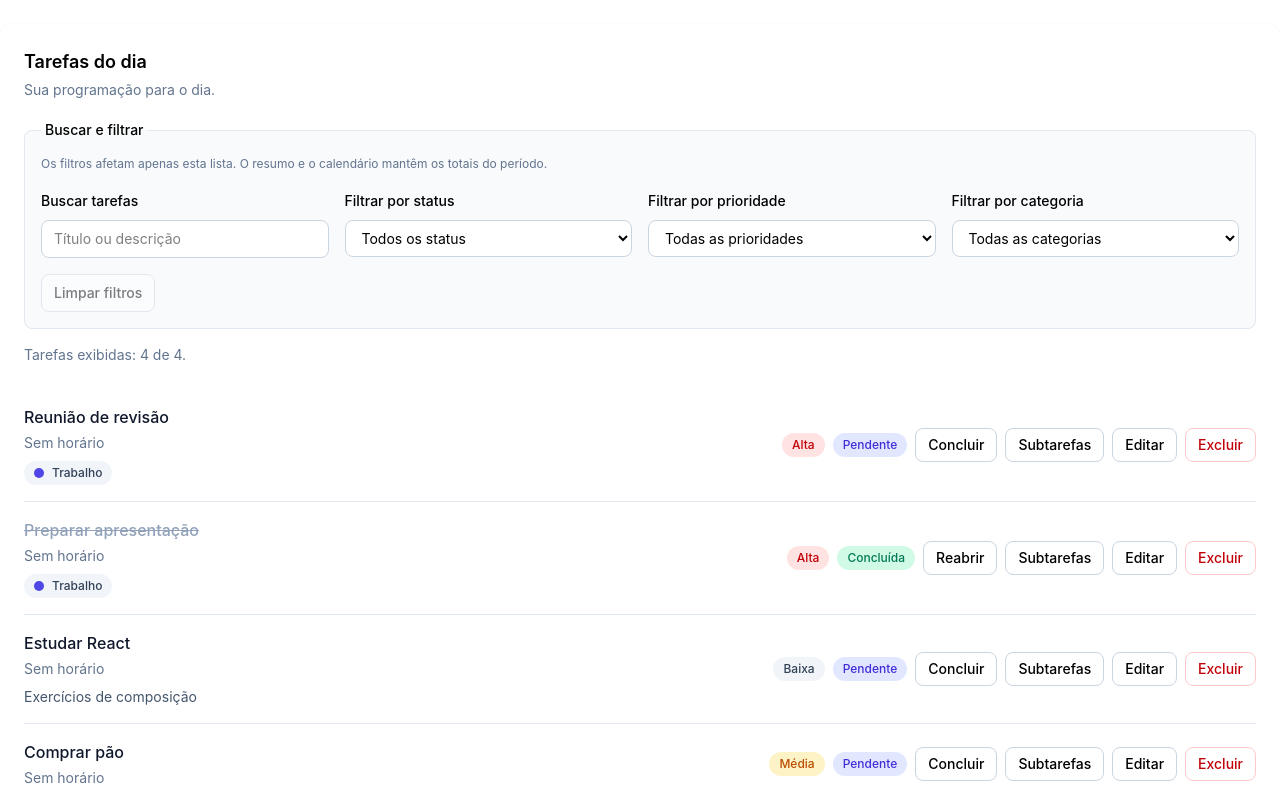
Test: TasksList filters › combina os quatro filtros e restaura a lista na ordem original ao limpar
Check: the text "Tarefas exibidas: 4 de 4." is shown, box [24,346,186,363]
Select "Trabalho" in the dropdown labelled "Filtrar por categoria" at (1095, 238), box [952,220,1239,257]
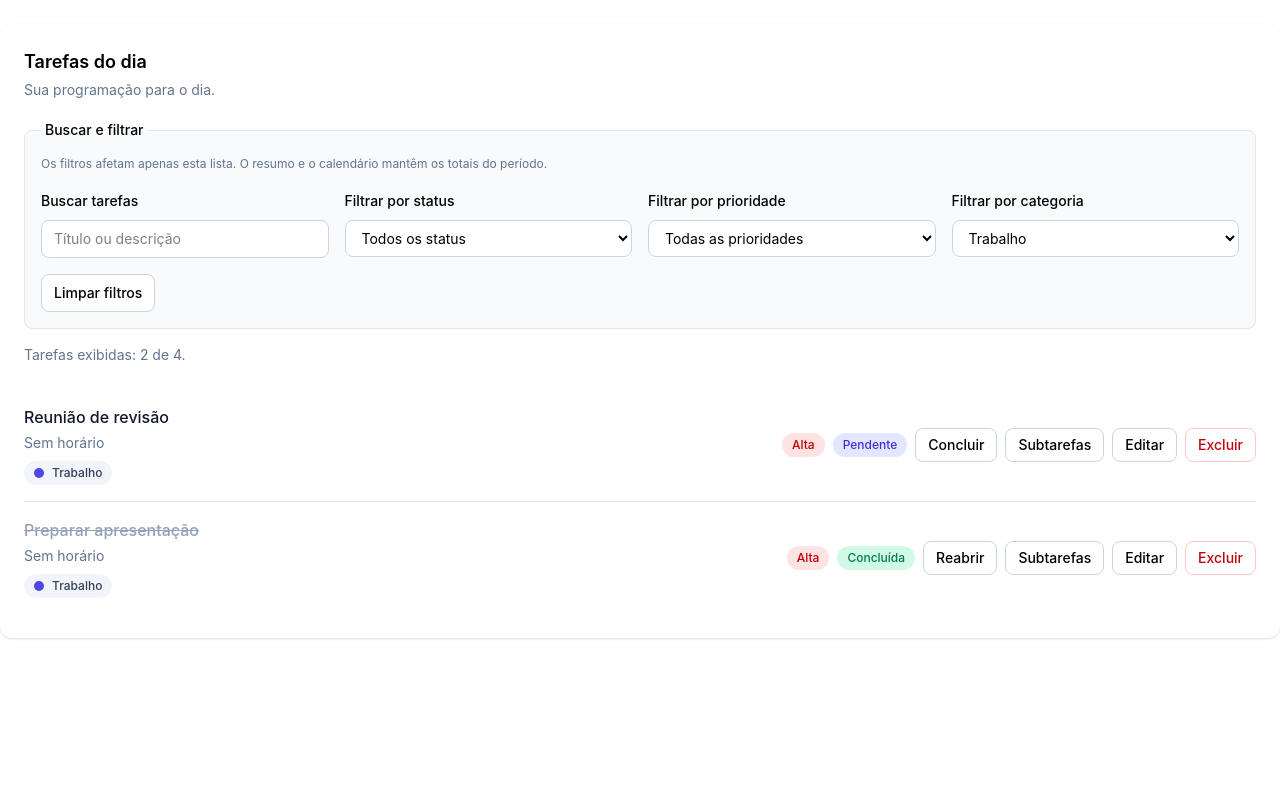
Select "Alta" in the dropdown labelled "Filtrar por prioridade" at (792, 238), box [648,220,936,257]
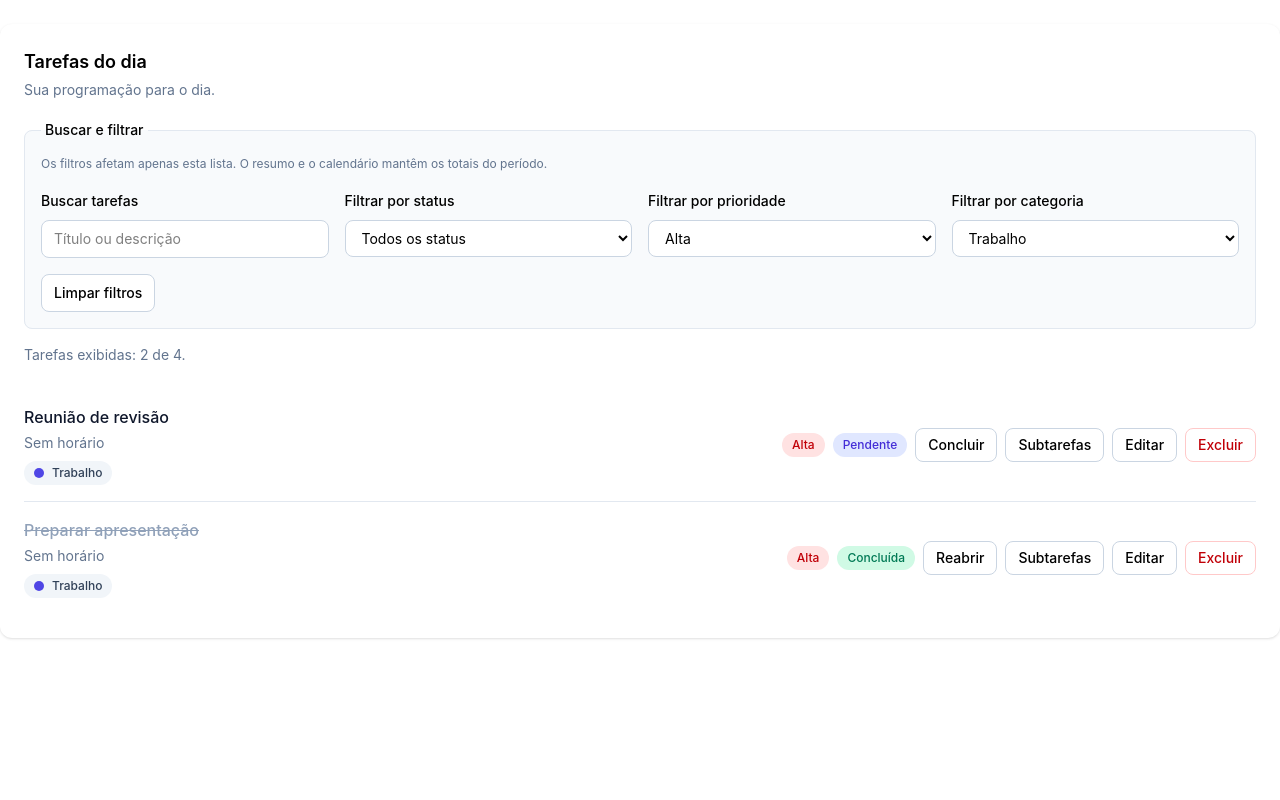
Select "Pendentes" in the dropdown labelled "Filtrar por status" at (488, 238), box [344,220,632,257]
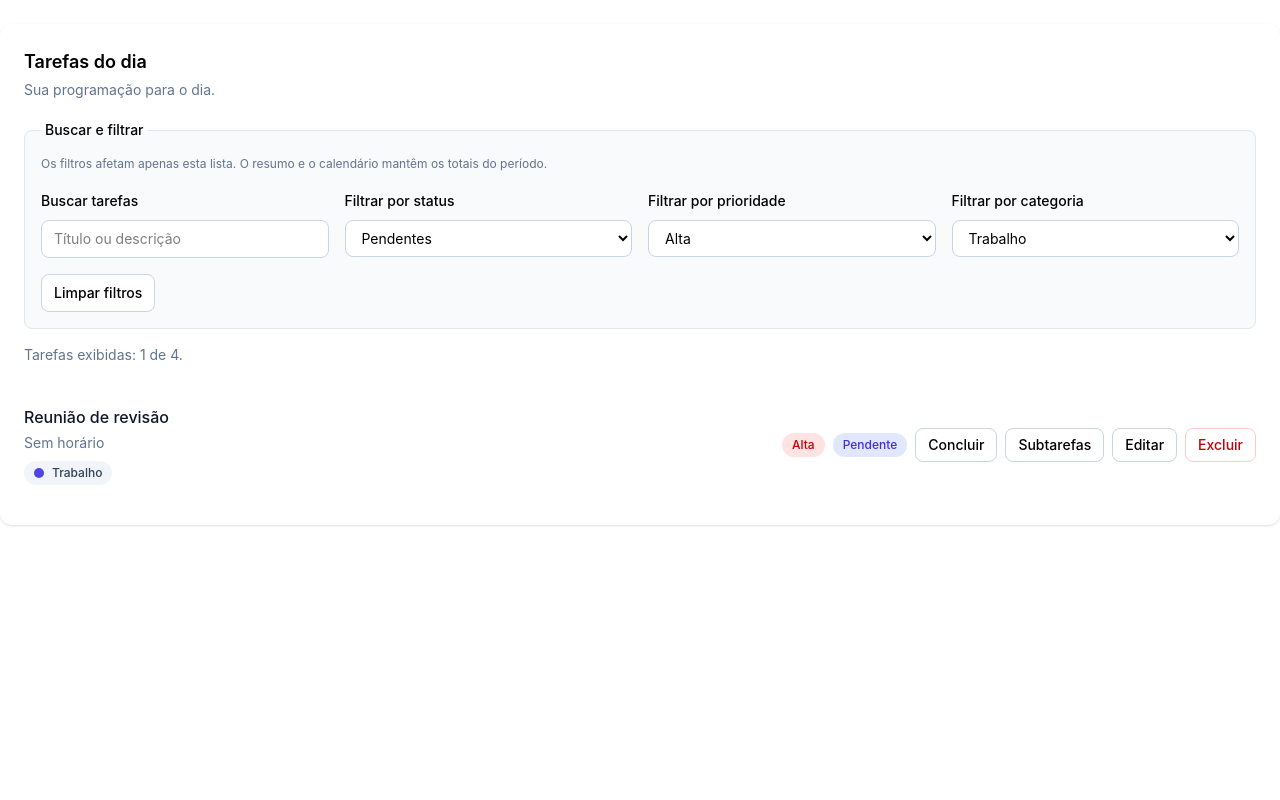
Type "revisao" into the search field labelled "Buscar tarefas".
click(185, 239); type("revisao")  # box [41,220,328,258]
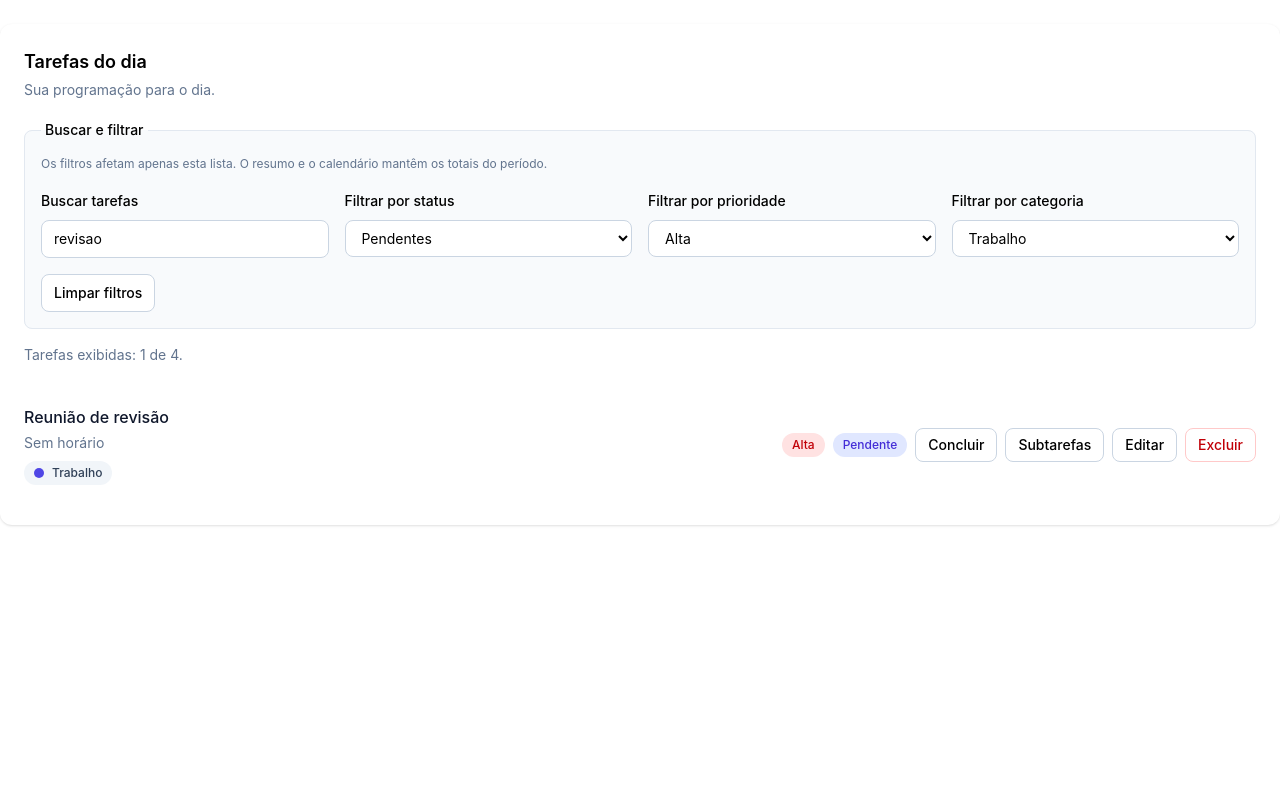
Check: the text "Reunião de revisão" is shown, box [24,405,169,429]
Check: the number of list items is 1, box [24,389,1256,501]
Click the button "Limpar filtros".
click(98, 293)  # box [41,274,155,312]
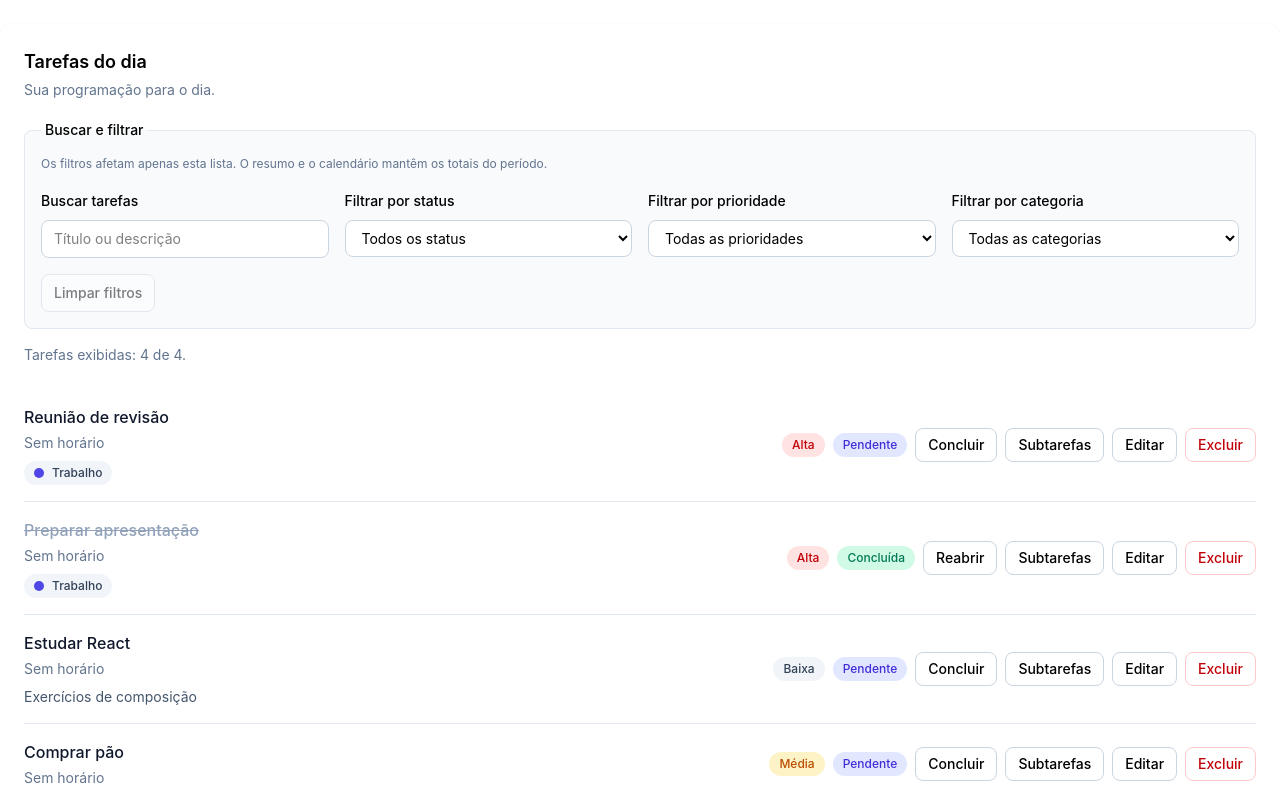
Check: the message reads "Tarefas exibidas: 4 de 4.", box [24,346,186,363]
Check: the list item that starts with "Preparar apresentação" is shown, box [24,520,199,540]
Check: the list item that starts with "Estudar React" is shown, box [24,633,130,653]
